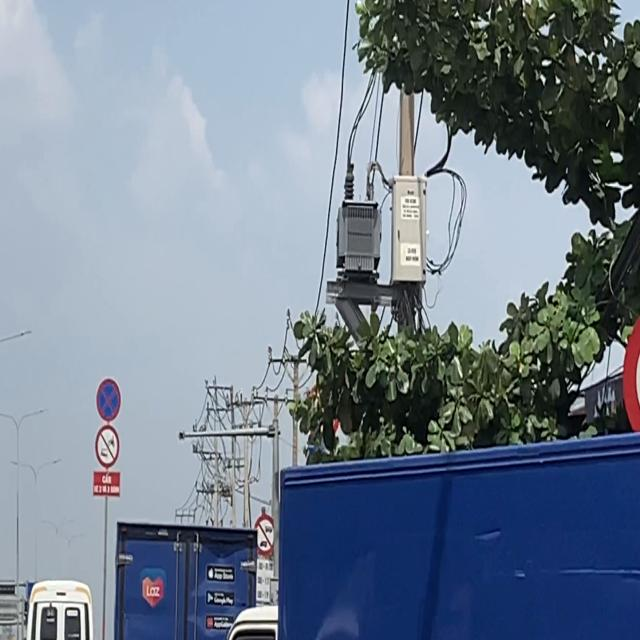Cam con lai: (624, 298, 640, 431), (94, 422, 120, 470), (256, 516, 273, 554)
Cam dung va do: (96, 378, 121, 422)
